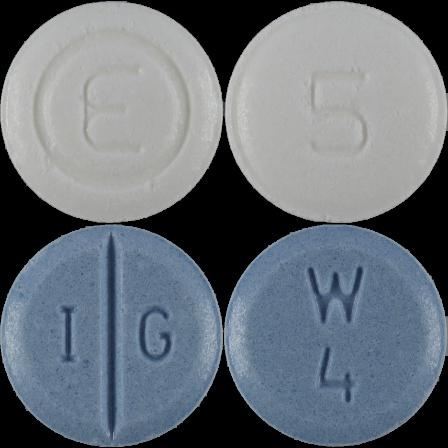57237-077: (0, 0, 224, 224)
